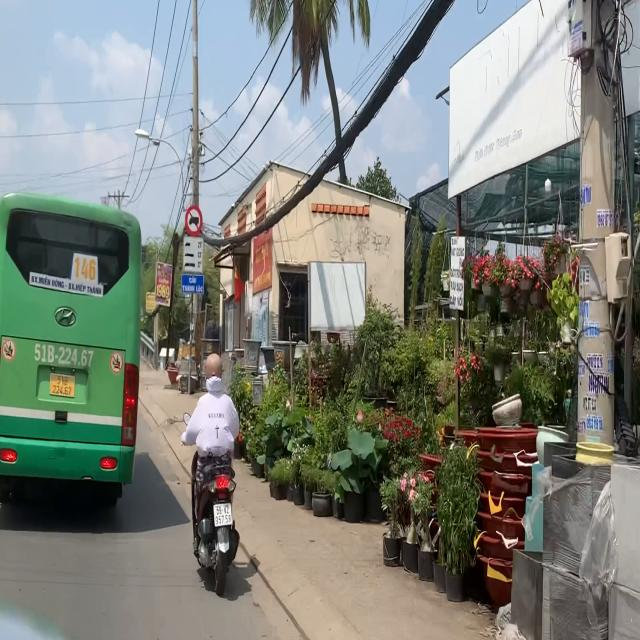Cam con lai: (185, 204, 202, 236)
